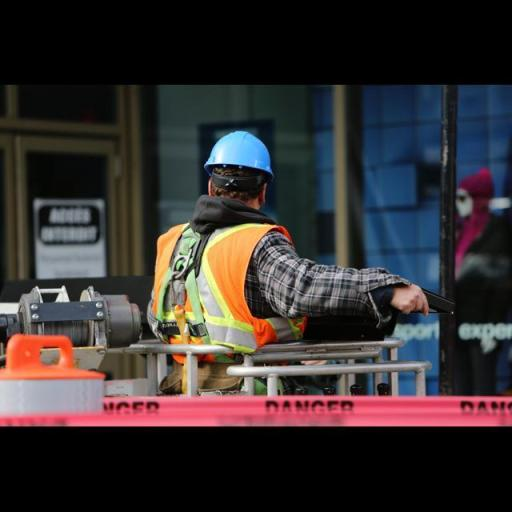Person: (144, 119, 452, 406)
helmet: (184, 120, 278, 182)
vest: (140, 208, 309, 392)
